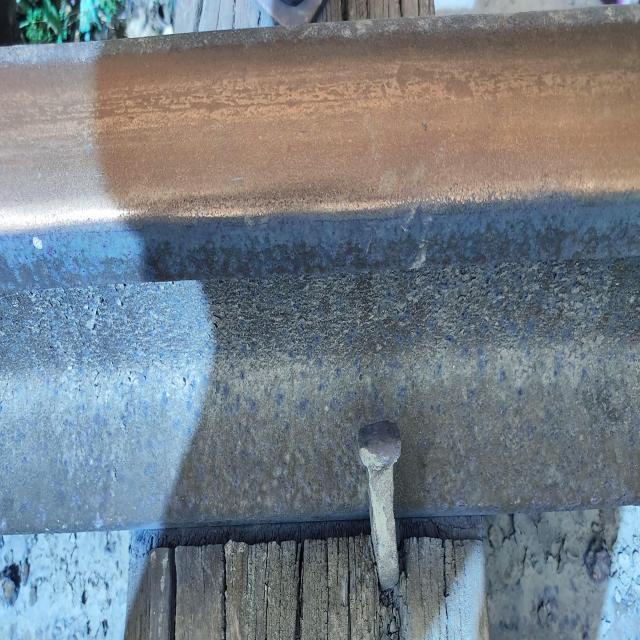Good Fasteners: (359, 421, 401, 590)
